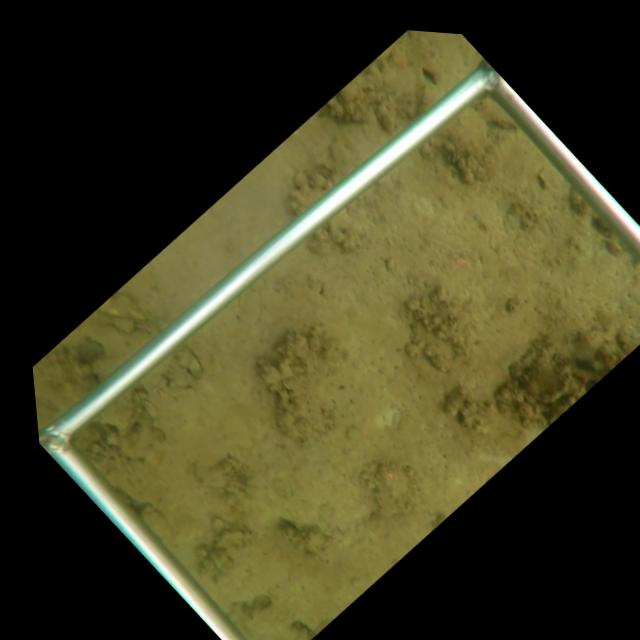Oyster-Closed: (95, 383, 145, 437)
Oyster-Indeterminate: (423, 105, 493, 178), (372, 463, 423, 514), (478, 95, 517, 127)
